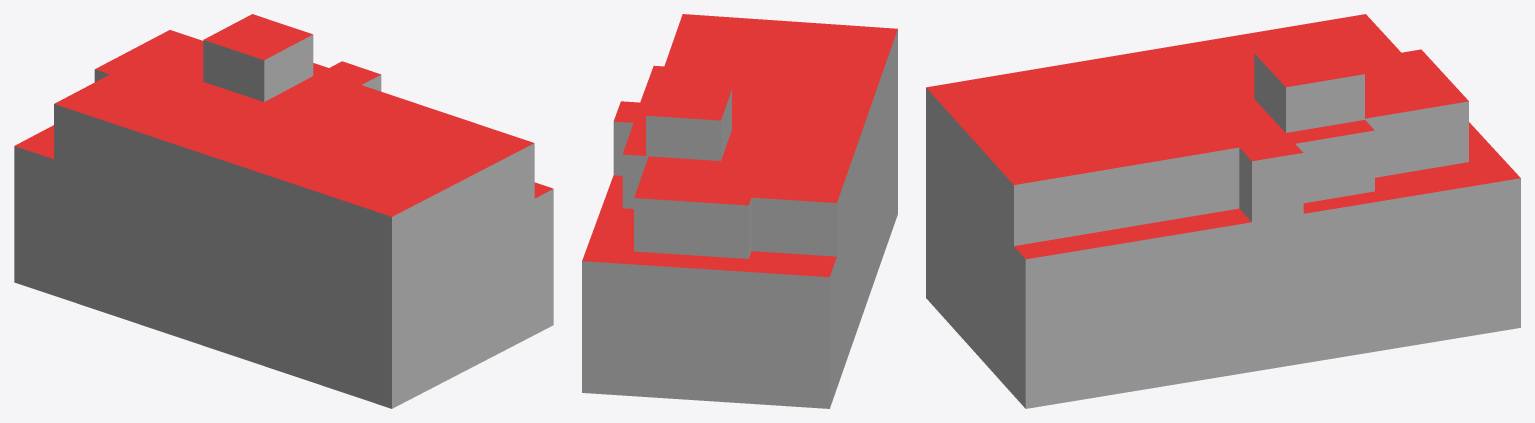
Rendered from DEBY_LOD2_4781711.dae.
3 views of the same model, side by side, from view 1: azimuth 30°, elevation 25°; view 2: azimuth 150°, elevation 25°; view 3: azimuth 270°, elevation 25° (orthographic). The views are drawn at different scales.
Bounding box in the file's own units: 18.92 × 24.62 × 11.7.
